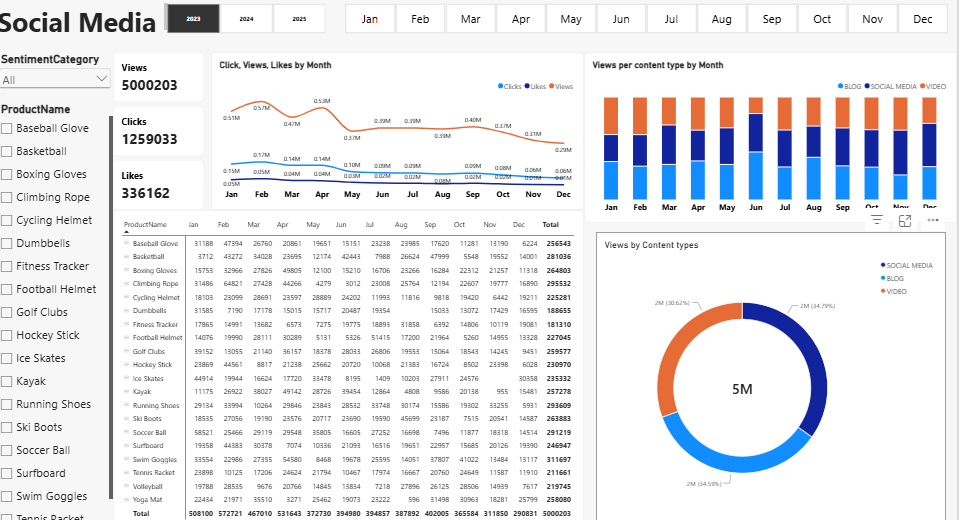

What the dashboard file says about the page in this screenshot:
{"tool":"powerbi","page":{"name":"Social Media","canvas":[1920,1080],"ordinal":2},"visuals":[{"type":"cardVisual","fields":{"Data":["Calculation.Views","Calculation.Clicks","Calculation.Likes"]},"box":[232,112,182,316],"z":0},{"type":"textbox","box":[0,14,342,62],"z":1000},{"type":"slicer","fields":{"Values":["products.ProductName"]},"box":[0,212,232,868],"z":2000},{"type":"slicer","fields":{"Values":["DateTable.Year"]},"box":[320,14,356,62],"z":3000},{"type":"slicer","fields":{"Values":["DateTable.Month Short"]},"box":[676,14,1244,62],"z":4000},{"type":"lineChart","title":"Click, Views, Likes by Month","fields":{"Category":["DateTable.Month Short"],"Y":["Calculation.Clicks","Calculation.Likes","Calculation.Views"]},"box":[428,112,746,316],"z":5000},{"type":"hundredPercentStackedColumnChart","title":"Views per content type by Month","fields":{"Category":["DateTable.Month Short"],"Series":["engagement_data.ContentType"],"Y":["Calculation.Views"]},"box":[1174,112,746,342],"z":6000},{"type":"pivotTable","fields":{"Columns":["DateTable.Month Short"],"Rows":["products.ProductName","engagement_data.ContentType"],"Values":["Calculation.Views"]},"box":[232,428,942,652],"z":7000},{"type":"donutChart","title":"Views by Content types","fields":{"Category":["engagement_data.ContentType"],"Y":["Calculation.Views"]},"box":[1198,472,700,588],"z":8000},{"type":"slicer","fields":{"Values":["customer_reviews_sentement.SentimentCategory"]},"box":[0,112,232,100],"z":8001}]}

Visuals, with their boxes on the page's 1920x1080 design canvas (x1, y1, x2, y2). These are canvas units, not pixel positions in the 959x520 screenshot, which may show the page scaled, cropped or inside an application window:
cardVisual - Calculation.Views x Calculation.Clicks: <bbox>232, 112, 414, 428</bbox>
textbox: <bbox>0, 14, 342, 76</bbox>
slicer - products.ProductName: <bbox>0, 212, 232, 1080</bbox>
slicer - DateTable.Year: <bbox>320, 14, 676, 76</bbox>
slicer - DateTable.Month Short: <bbox>676, 14, 1920, 76</bbox>
"Click, Views, Likes by Month" lineChart: <bbox>428, 112, 1174, 428</bbox>
"Views per content type by Month" hundredPercentStackedColumnChart: <bbox>1174, 112, 1920, 454</bbox>
pivotTable - DateTable.Month Short x products.ProductName: <bbox>232, 428, 1174, 1080</bbox>
"Views by Content types" donutChart: <bbox>1198, 472, 1898, 1060</bbox>
slicer - customer_reviews_sentement.SentimentCategory: <bbox>0, 112, 232, 212</bbox>
